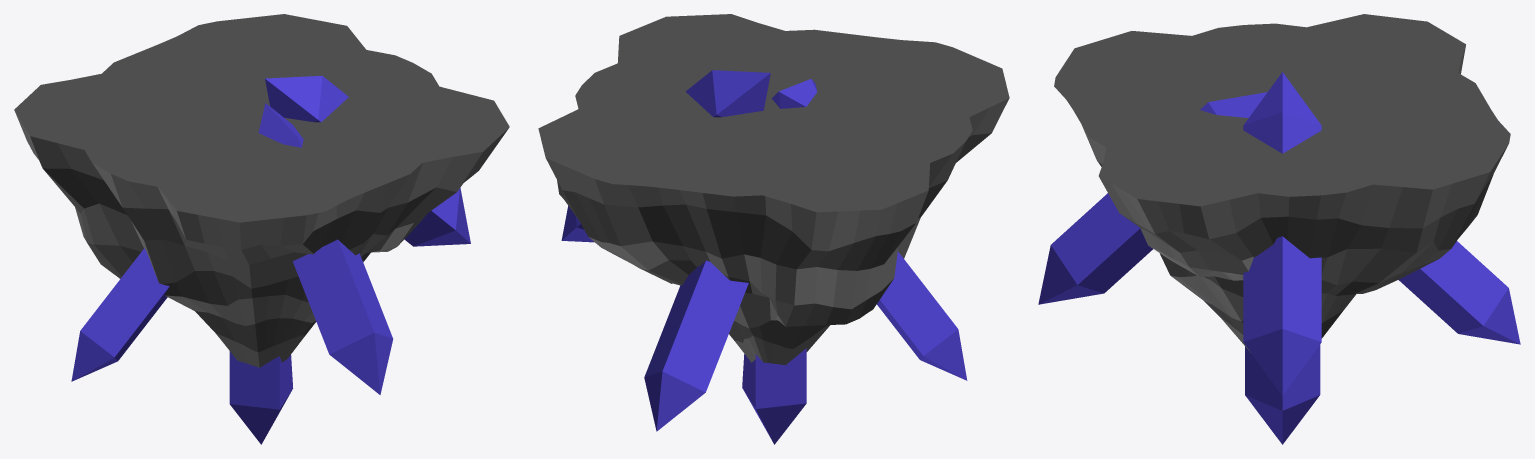
The model's file is island_nonplayable4.fbx.
3 views of the same model, side by side, from view 1: azimuth 30°, elevation 25°; view 2: azimuth 150°, elevation 25°; view 3: azimuth 270°, elevation 25° (orthographic). The views are drawn at different scales.
Parts seen in each view (by area): view 1: island_nonplayable4_rocks, island_nonplayable4_crystals; view 2: island_nonplayable4_rocks, island_nonplayable4_crystals; view 3: island_nonplayable4_rocks, island_nonplayable4_crystals.
Part boxes in pixels (x1,y1,x2,y2): island_nonplayable4_rocks: [14, 14, 509, 367]; island_nonplayable4_crystals: [71, 75, 470, 444]; island_nonplayable4_rocks: [538, 14, 1009, 365]; island_nonplayable4_crystals: [561, 70, 967, 444]; island_nonplayable4_rocks: [1054, 14, 1510, 352]; island_nonplayable4_crystals: [1038, 72, 1520, 444].
Size of the model in its own units: 6908 by 6013 by 7008.
